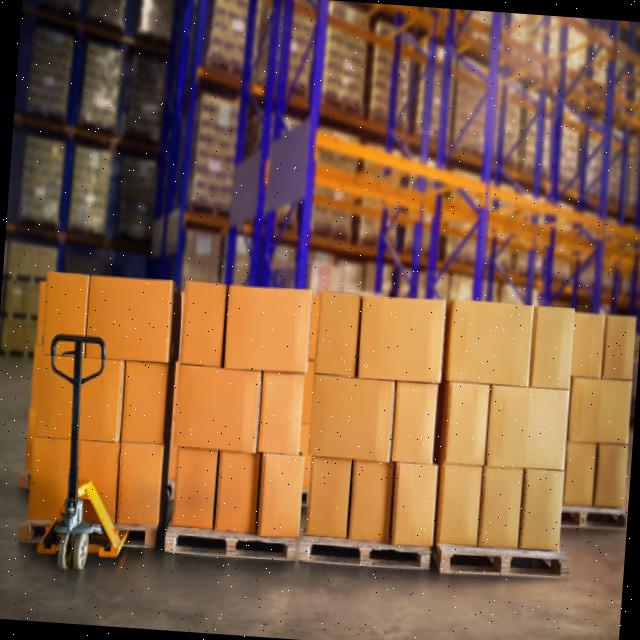Wooden-Pallets: (297, 526, 436, 586), (433, 534, 567, 589), (158, 515, 310, 563)
